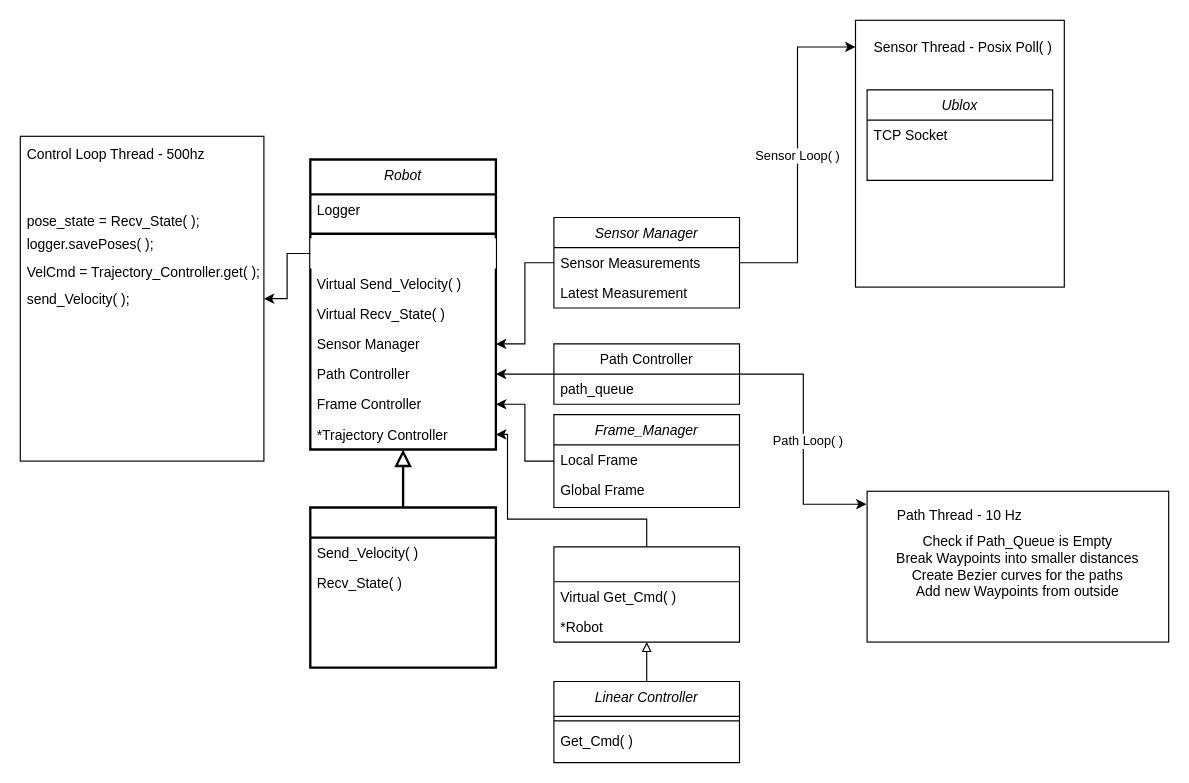
Some shapes in this 1189 by 783 pixel diagram are drawn without their labels. The shapes that lost their labels are listed below. From the top down, each one's box as (x1, y1, x2, y2) in pixels, then its label:
(310, 238, 495, 268): Control_Loop( )
(309, 506, 496, 668): Go1
(553, 546, 740, 642): Trajectory Controller
